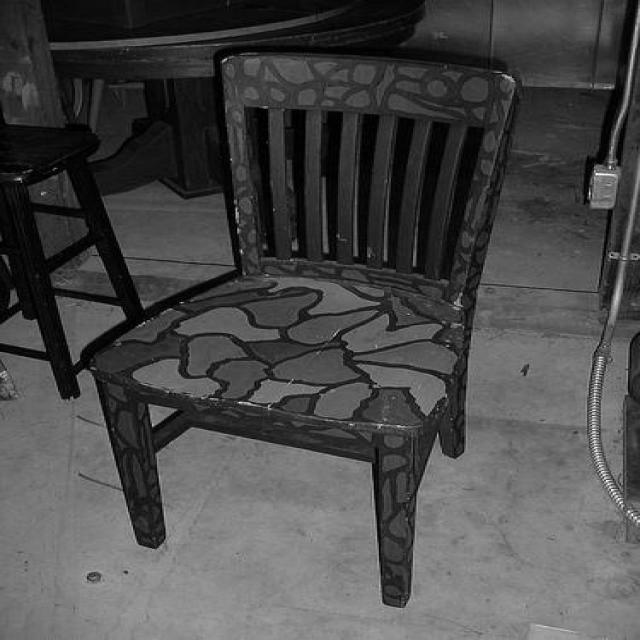chair: (86, 45, 515, 608)
